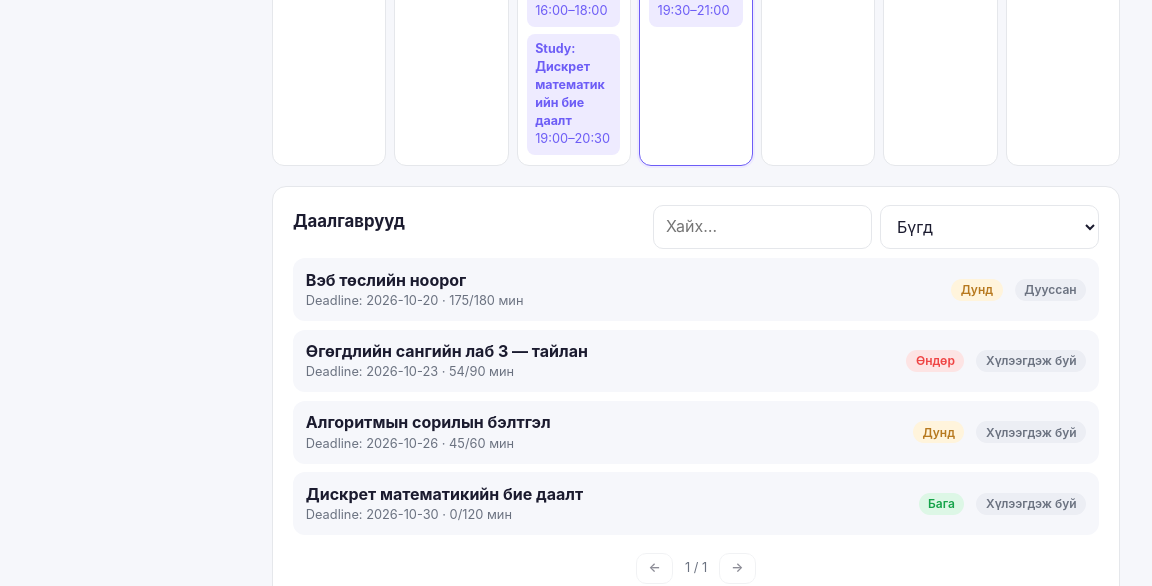
it: task CRUD (mock) › жагсаалтын хайлт, шүүлт, хуудаслалт
(page scrolled)
Expected: the number of links with test id "task-item" is 4, [293,258,1099,321]; [293,330,1099,392]; [293,401,1099,464]; [293,472,1099,535]
Select "Дууссан" in the dropdown with test id "task-status-filter" at (990, 227), box [880,204,1099,249]
(page scrolled)
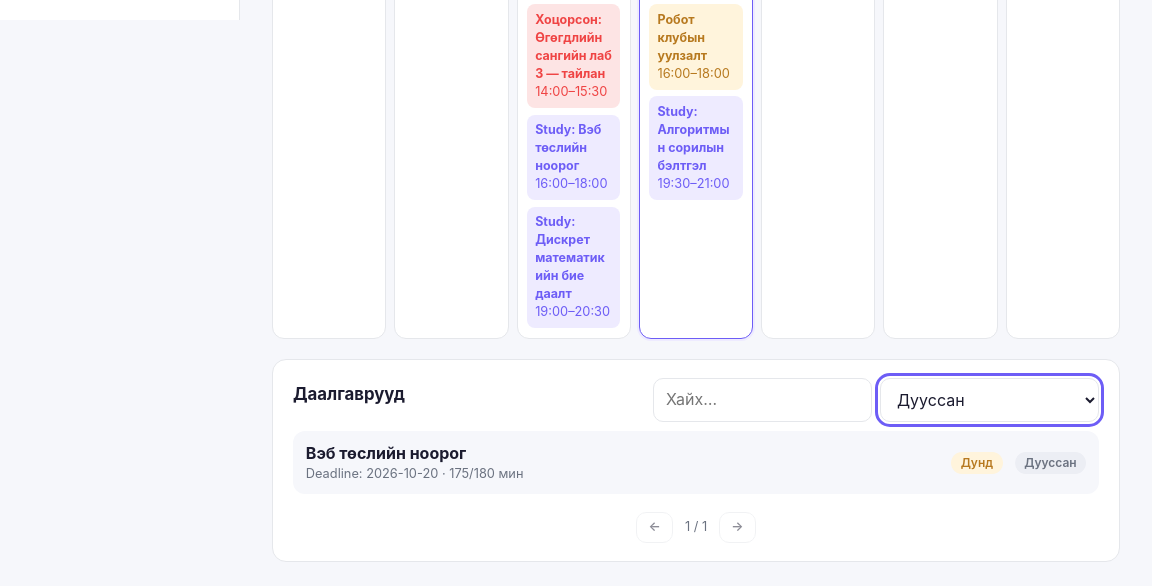
Expected: the text with test id "page-info" reads "1 / 1", [685,518,707,537]
Expected: the number of links with test id "task-item" is 1, [293,432,1099,494]
